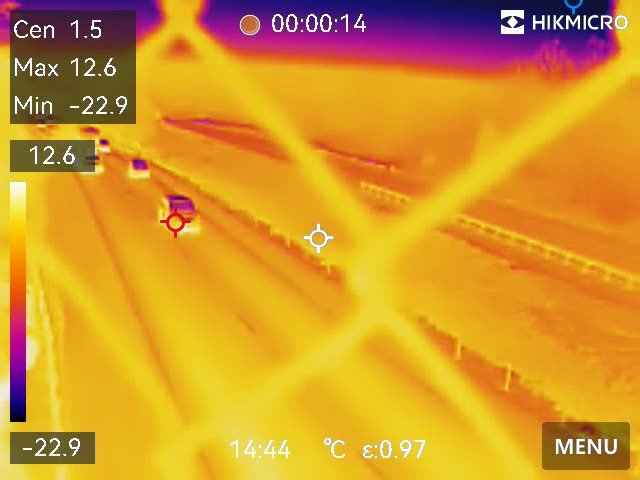vehicle: (159, 194, 207, 229), (76, 149, 104, 175), (128, 156, 152, 179), (95, 138, 113, 153)
